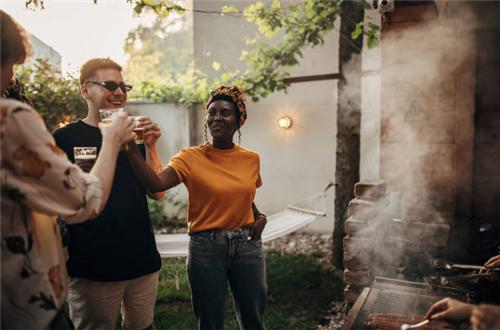alcohol: (73, 143, 97, 176), (100, 107, 121, 128), (131, 121, 148, 144)
